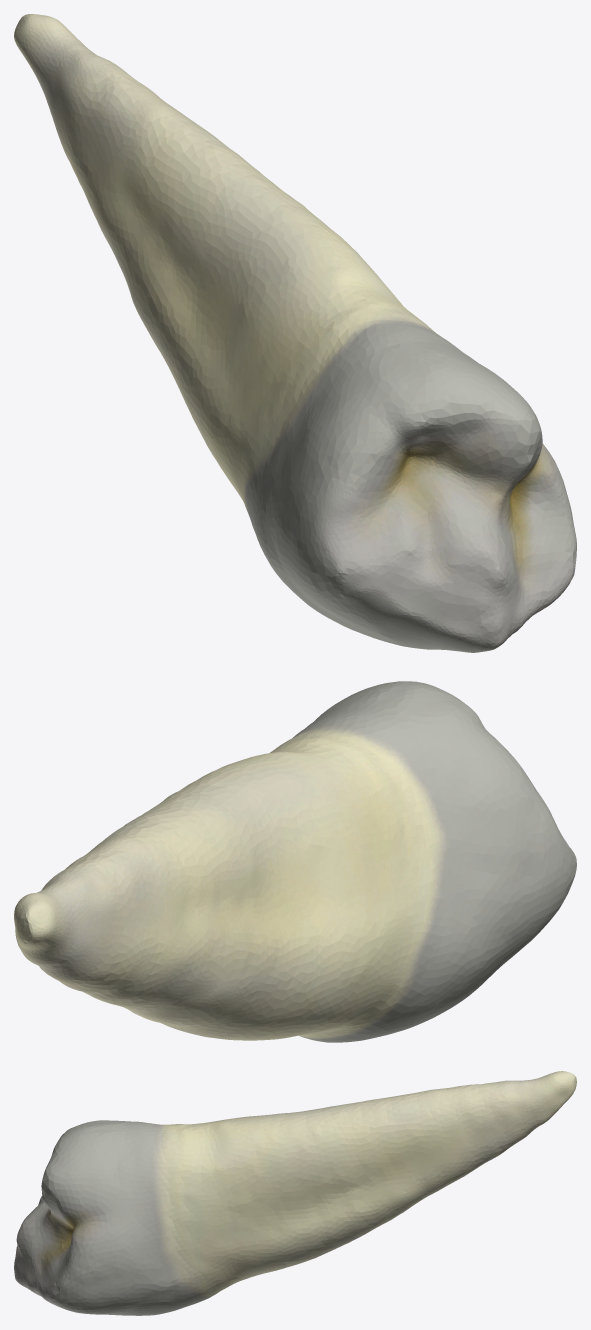
The model's file is 34 quiz.glb.
The picture shows the model from 3 angles, top to bottom: view 1: azimuth 30°, elevation 25°; view 2: azimuth 150°, elevation 25°; view 3: azimuth 270°, elevation 25°; orthographic projection. The views are drawn at different scales.
Parts seen in each view (by area): view 1: 3MFMeshParent_0; view 2: 3MFMeshParent_0; view 3: 3MFMeshParent_0.
Part boxes in pixels (x1,y1,x2,y2): 3MFMeshParent_0: (14, 14, 576, 652); 3MFMeshParent_0: (14, 681, 576, 1042); 3MFMeshParent_0: (14, 1071, 576, 1315).
Bounding box in the file's own units: 0.1759 × 0.2293 × 0.512.
Materials: 1 (1 with a texture image).
